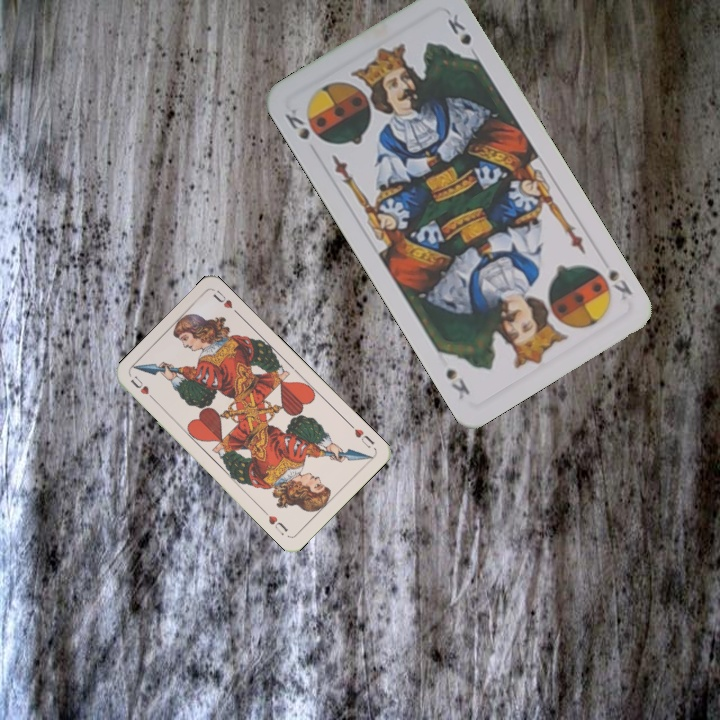HU: (126, 372, 159, 405), (345, 419, 377, 451)
SK: (280, 104, 327, 147), (589, 263, 635, 303)
